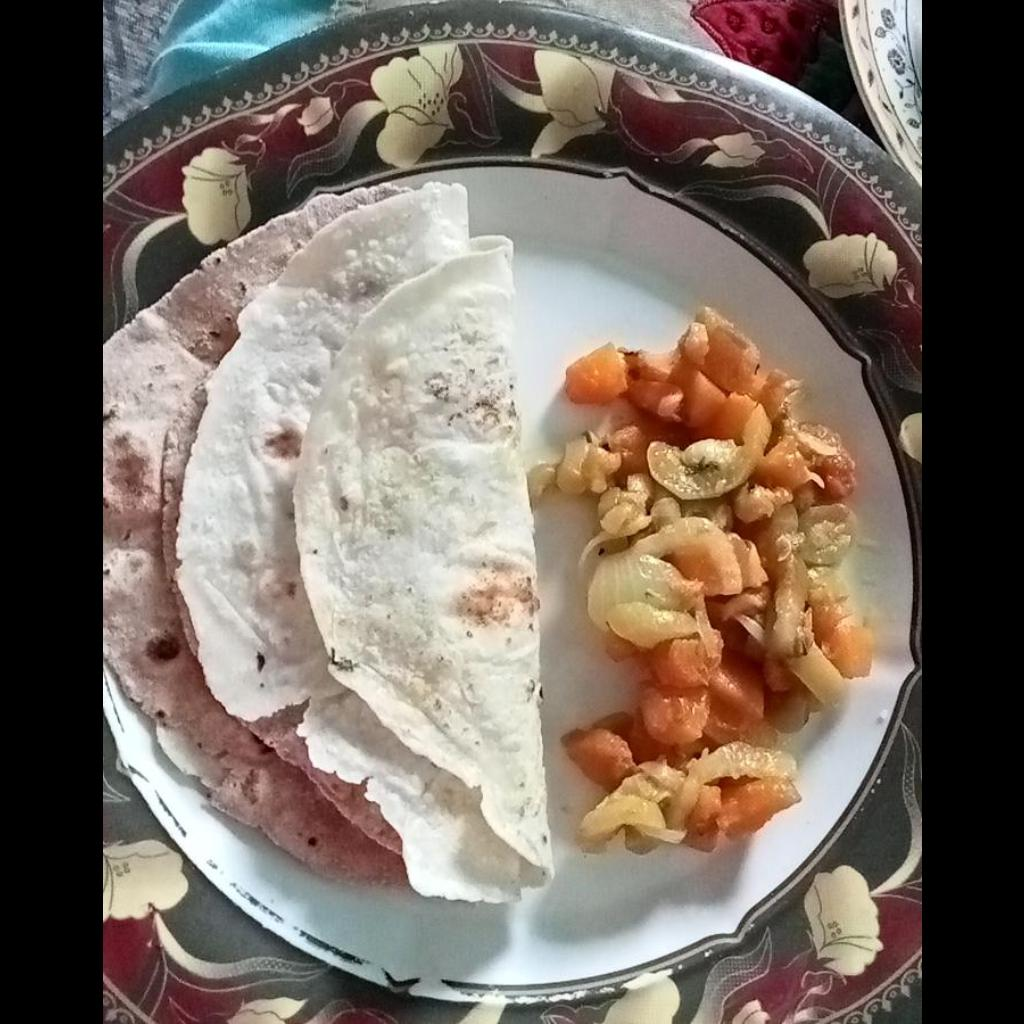ruti: (102, 183, 552, 905)
vegetable: (532, 308, 877, 856)
